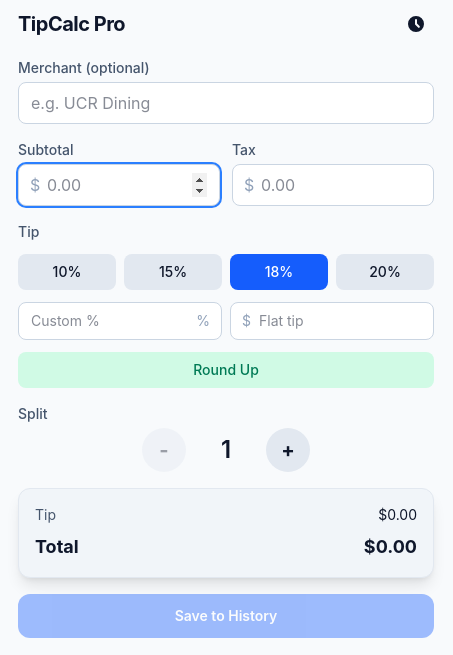
Scenario: App › calculates tip and total in real-time
Type "50" into the number field labelled "Subtotal". click: coordinates (119, 185)
box: [18,164,220,206]
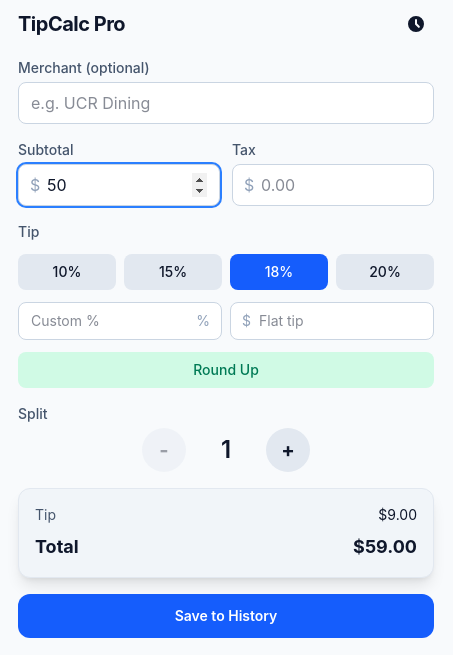
Type "4.50" into the number field labelled "Tax". click: coordinates (333, 185)
box: [232,164,434,206]
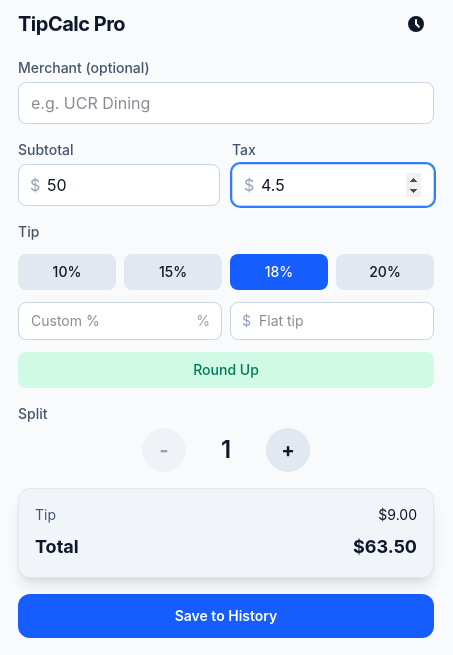
Now the text "$9.00" is shown, box [378,505,417,525]
Now the text "$63.50" is shown, box [353,533,417,561]
